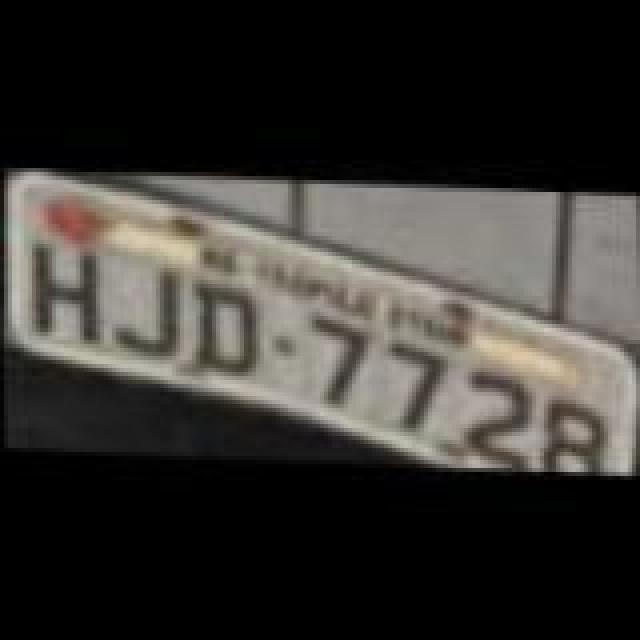2: (462, 366, 538, 470)
7: (382, 332, 450, 436), (304, 312, 372, 412)
8: (538, 398, 606, 482)
D: (190, 284, 262, 380)
H: (28, 238, 104, 346)
J: (116, 266, 184, 366)
